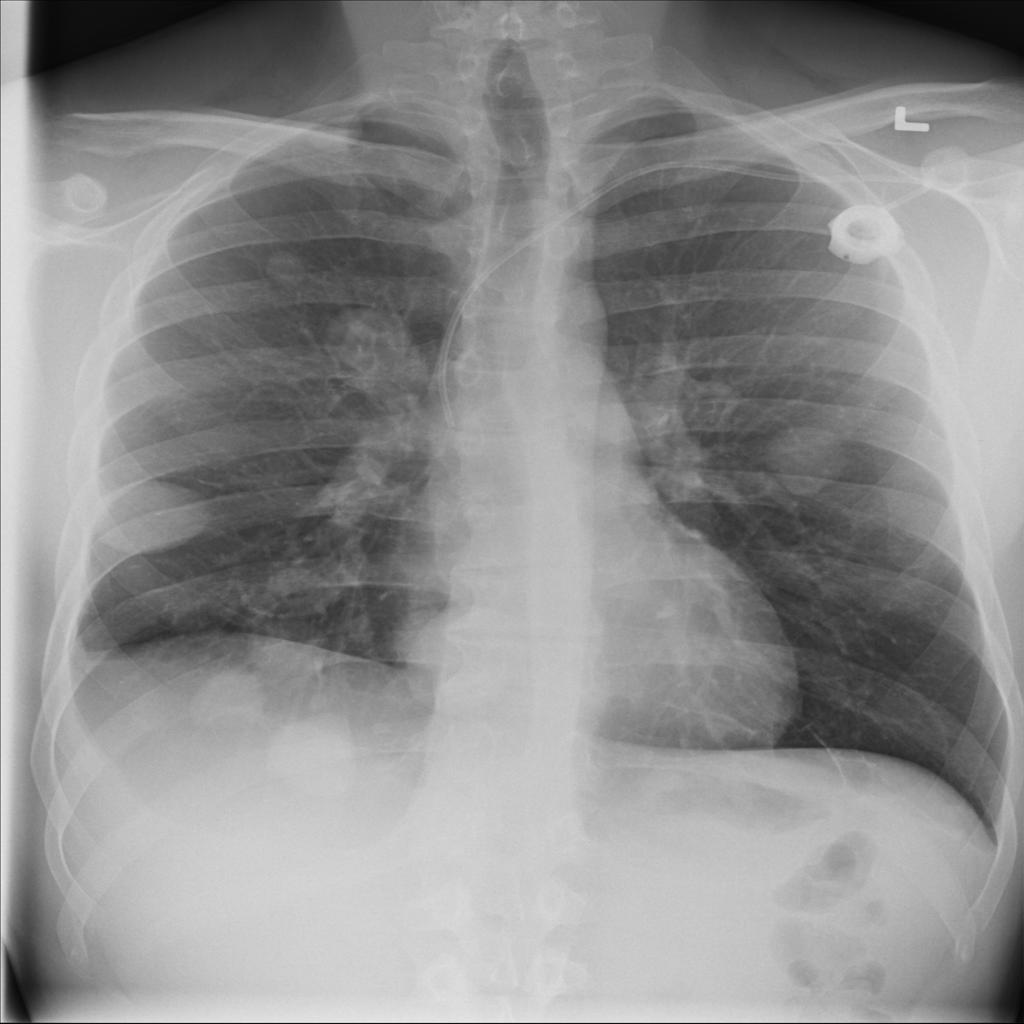nodule: (307, 301, 444, 413), (80, 465, 226, 566), (401, 617, 530, 724), (748, 405, 870, 508), (256, 704, 377, 806), (166, 654, 293, 750), (249, 238, 332, 301)
